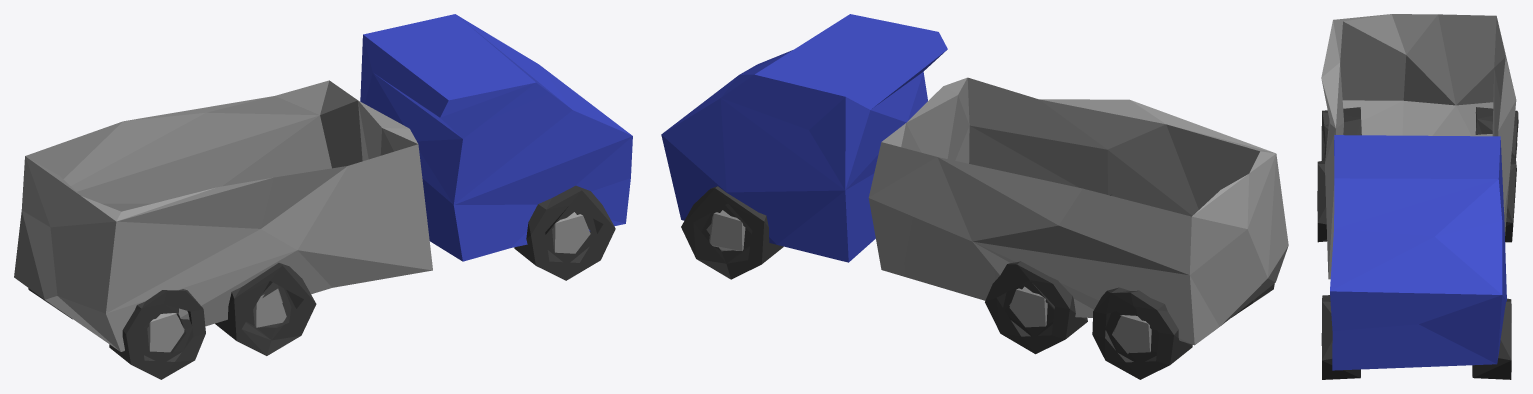
Rendered from Truck01.fbx.
3 renders of one model, left to right at view 1: azimuth 30°, elevation 25°; view 2: azimuth 150°, elevation 25°; view 3: azimuth 270°, elevation 25°, orthographic. The views are drawn at different scales.
Visible parts, largest first — view 1: Cube.006, Truck, Cylinder.006, Cylinder.014, Cylinder.000; view 2: Cube.006, Truck, Cylinder.009, Cylinder.011, Cylinder.012; view 3: Truck, Cube.006, Cylinder.012, Cylinder.006, Cylinder.000, Cylinder.014, Cylinder.009, Cylinder.011.
Boxes of the visible parts, x1=… form: Cube.006: x1=14, y1=80, x2=432, y2=351; Truck: x1=360, y1=14, x2=632, y2=261; Cylinder.006: x1=514, y1=185, x2=615, y2=280; Cylinder.014: x1=215, y1=263, x2=316, y2=355; Cylinder.000: x1=109, y1=289, x2=205, y2=379; Cube.006: x1=868, y1=77, x2=1288, y2=345; Truck: x1=661, y1=14, x2=947, y2=262; Cylinder.009: x1=1092, y1=287, x2=1192, y2=379; Cylinder.011: x1=985, y1=261, x2=1087, y2=354; Cylinder.012: x1=681, y1=186, x2=783, y2=279; Truck: x1=1330, y1=135, x2=1506, y2=370; Cube.006: x1=1321, y1=14, x2=1516, y2=279; Cylinder.012: x1=1472, y1=298, x2=1511, y2=379; Cylinder.006: x1=1321, y1=295, x2=1360, y2=379; Cylinder.000: x1=1321, y1=107, x2=1361, y2=160; Cylinder.014: x1=1317, y1=160, x2=1327, y2=242; Cylinder.009: x1=1475, y1=107, x2=1518, y2=157; Cylinder.011: x1=1505, y1=157, x2=1516, y2=242.
Bounding box in the file's own units: 692 × 249 × 237.
